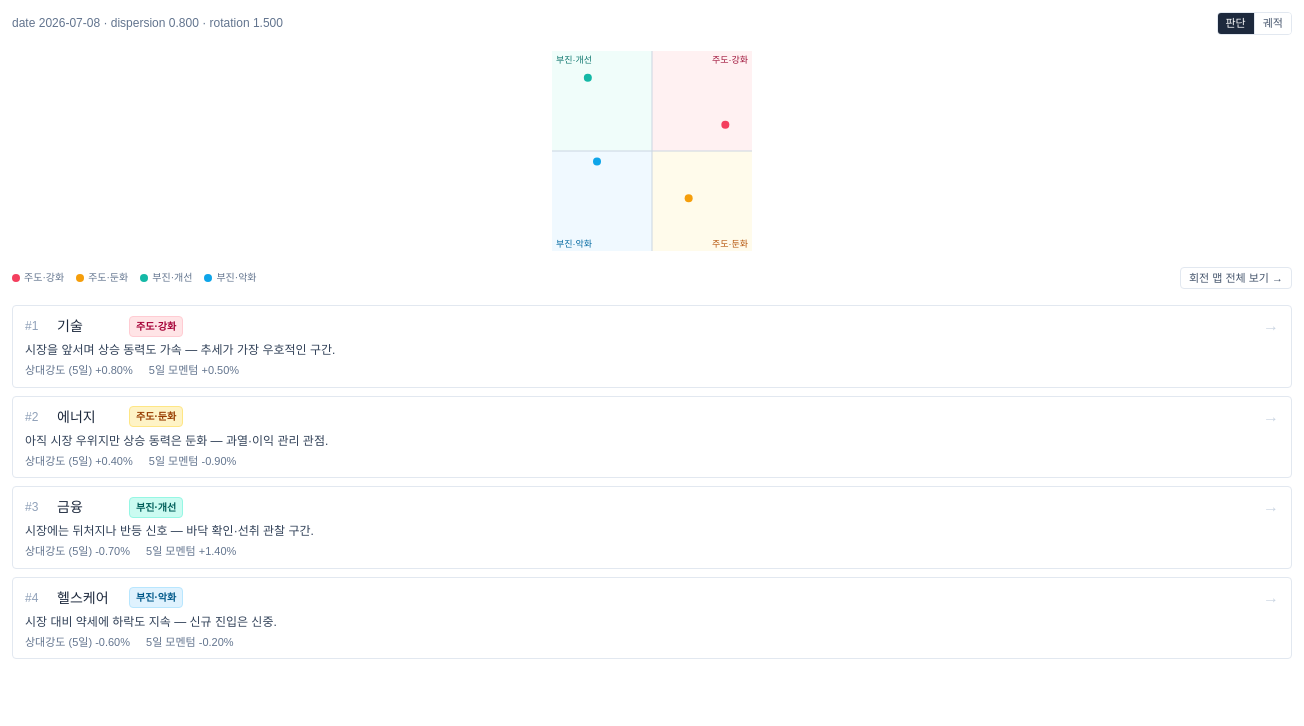
Test case: SectorDetail — 세그먼트 토글 › 궤적 탭 클릭 → 판단 패널 숨김 + 궤적 뷰 노출(기존 뷰 회귀)
 궤적 탭 클릭
Click the tab with test id "sector-tab-trajectory": (1272,23) [1254,13,1291,34]
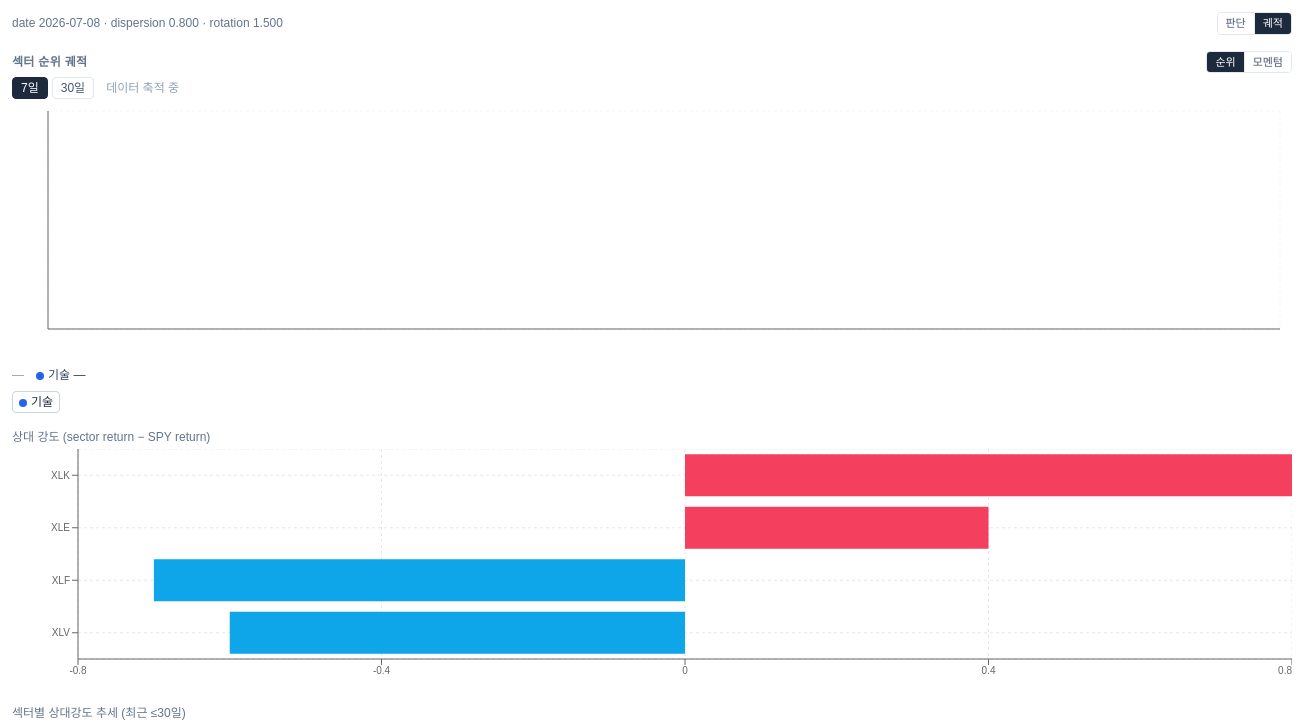
Now the element with test id "sector-cd-panel" is gone
Now the text "상대 강도" is shown, box [12,430,210,444]
